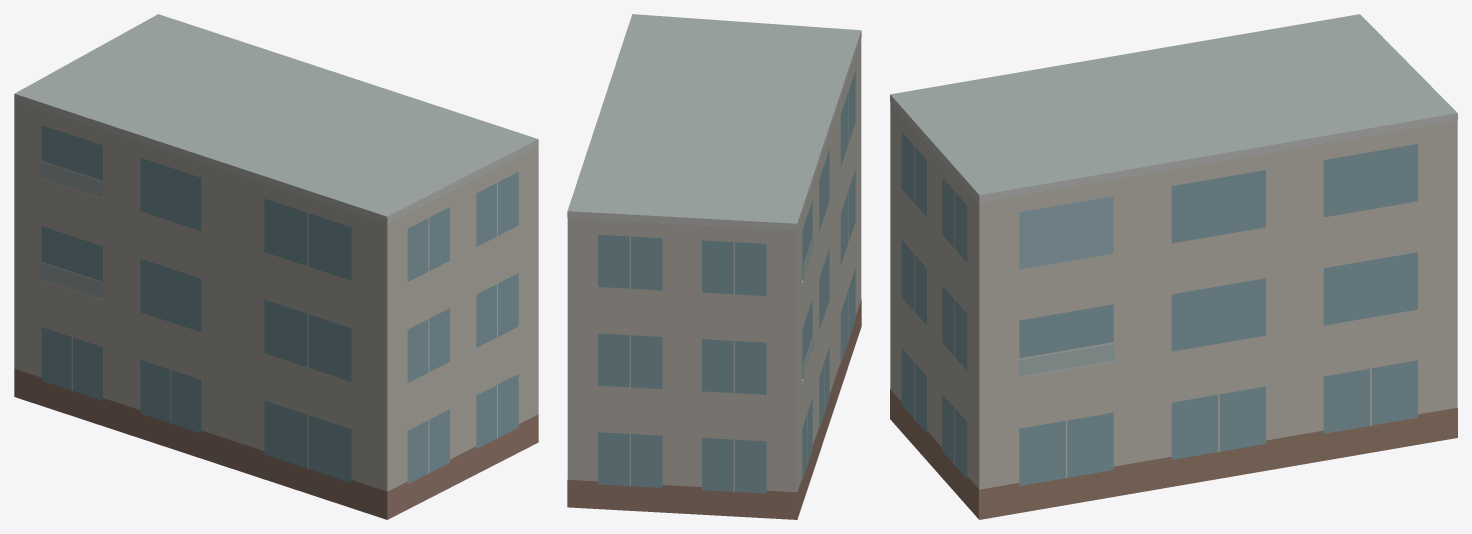
Rendered from survey-upis-32737506.glb.
The picture shows the model from 3 angles, left to right: view 1: azimuth 30°, elevation 25°; view 2: azimuth 150°, elevation 25°; view 3: azimuth 270°, elevation 25°; orthographic projection. The views are drawn at different scales.
Visible parts, largest first — view 1: survey-upis-32737506.tmp; view 2: survey-upis-32737506.tmp; view 3: survey-upis-32737506.tmp.
Part boxes in pixels (<box>): survey-upis-32737506.tmp: <box>14,14,538,519</box>; survey-upis-32737506.tmp: <box>567,14,861,519</box>; survey-upis-32737506.tmp: <box>890,14,1457,519</box>.
Size of the model in its own units: 12.57 by 10.5 by 16.65.
